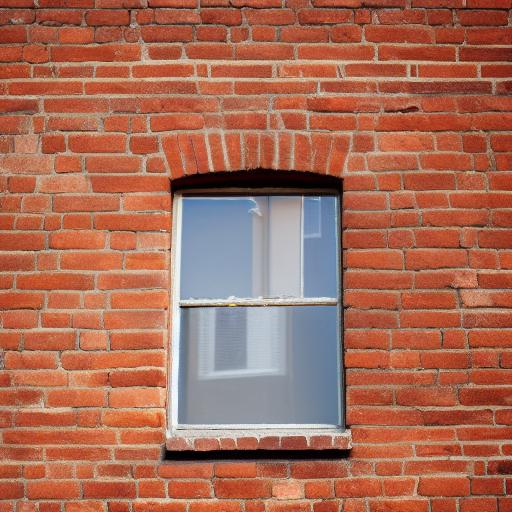Window: (166, 133, 354, 457)
